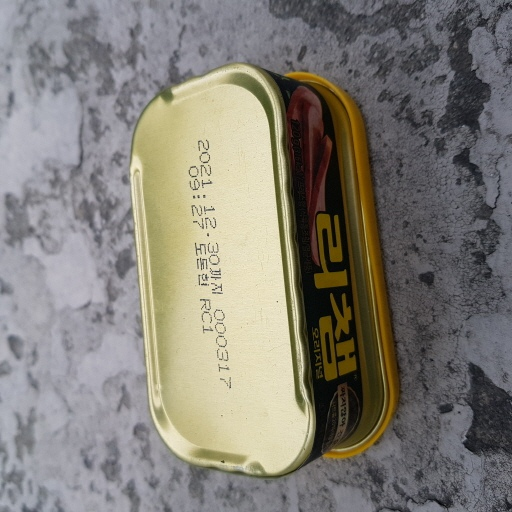Metal_2: (126, 60, 397, 477)
